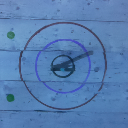Axe Tip: (54, 65, 67, 68)
